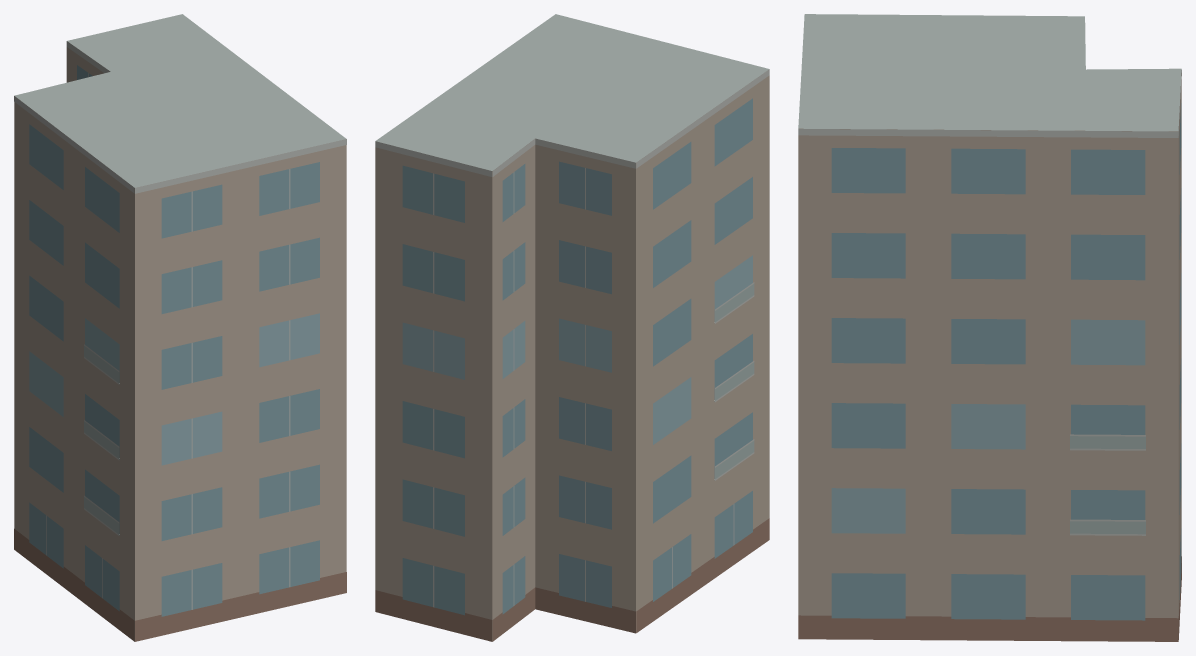
Rendered from survey-upis-33015101.glb.
3 views of the same model, side by side, from view 1: azimuth 30°, elevation 25°; view 2: azimuth 150°, elevation 25°; view 3: azimuth 270°, elevation 25° (orthographic). The views are drawn at different scales.
Visible parts, largest first — view 1: survey-upis-33015101.tmp; view 2: survey-upis-33015101.tmp; view 3: survey-upis-33015101.tmp.
Boxes of the visible parts, bbox=[...] form: survey-upis-33015101.tmp: bbox=[14, 14, 346, 641]; survey-upis-33015101.tmp: bbox=[375, 14, 769, 641]; survey-upis-33015101.tmp: bbox=[798, 14, 1181, 641].
Bounding box in the file's own units: 9.27 × 18.7 × 12.74.
